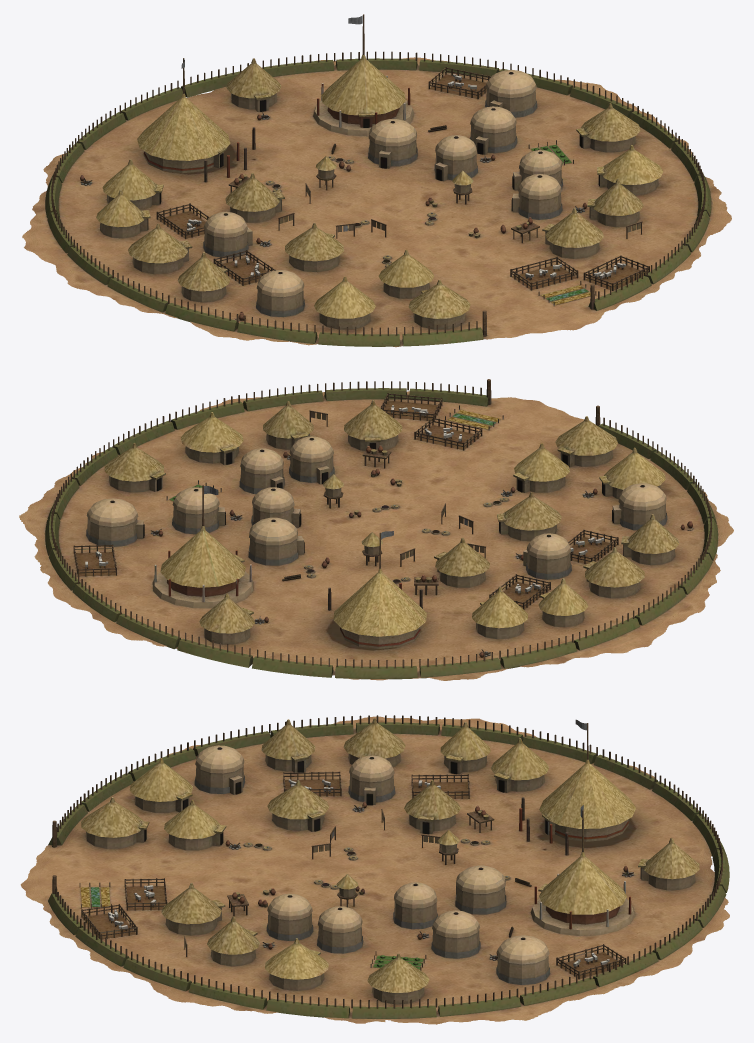
Rendered from stone-town-big-b-maghreb.glb.
3 renders of one model, top to bottom at view 1: azimuth 30°, elevation 25°; view 2: azimuth 150°, elevation 25°; view 3: azimuth 270°, elevation 25°, orthographic. The views are drawn at different scales.
Parts seen in each view (by area): view 1: LOD0; view 2: LOD0; view 3: LOD0.
Boxes of the visible parts, x1,y1,x2,y2 form: LOD0: [22, 14, 731, 347]; LOD0: [19, 379, 733, 680]; LOD0: [20, 715, 729, 1024].
Size of what is drawn, in the model's own units: 7.92 by 1.25 by 7.76.
Materials: 3 (3 with a texture image).
